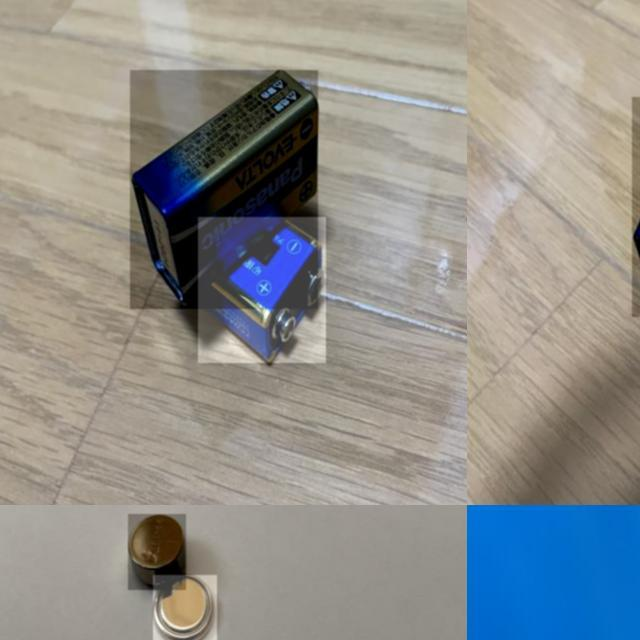9V: (131, 70, 319, 309), (198, 217, 326, 363)
